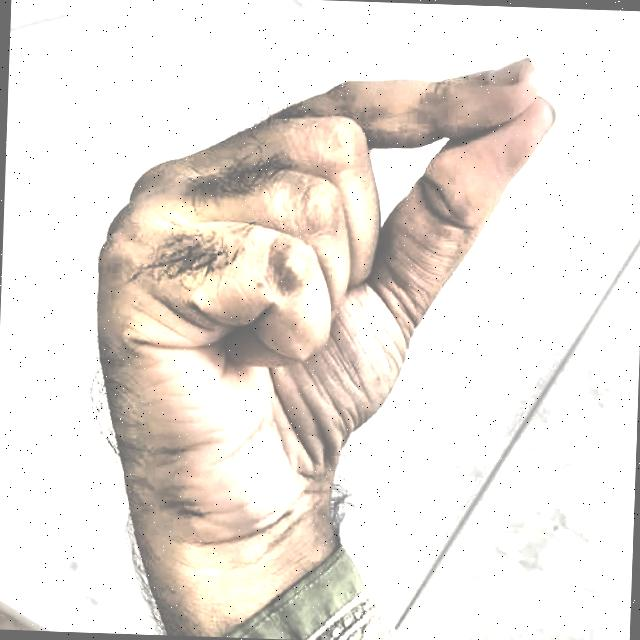Anusshar: (60, 11, 568, 598)
